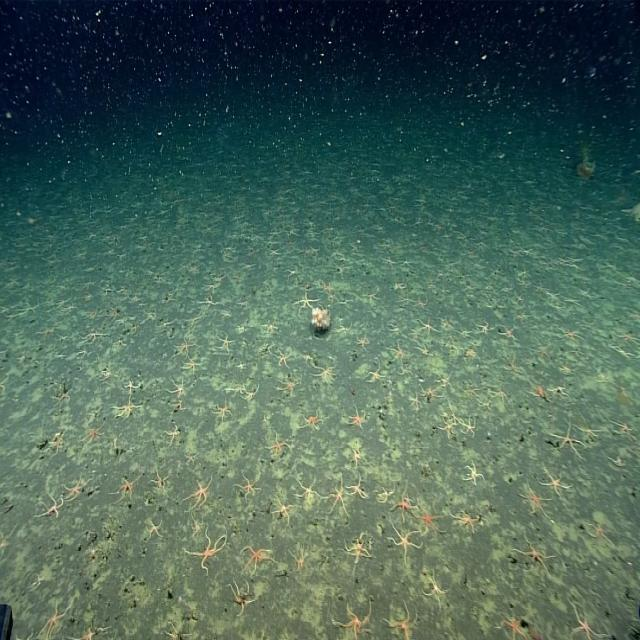brittle-stars: (183, 530, 228, 574), (514, 535, 553, 578), (569, 599, 607, 640), (334, 599, 373, 638), (34, 603, 70, 639), (388, 525, 423, 562), (384, 604, 419, 640), (182, 475, 214, 512), (552, 424, 585, 457), (228, 581, 257, 615), (242, 548, 276, 576), (517, 483, 548, 513), (539, 468, 569, 499), (322, 483, 349, 514), (111, 473, 140, 501), (448, 508, 481, 532), (422, 574, 445, 608), (391, 490, 416, 520), (500, 614, 528, 640), (271, 499, 296, 528), (65, 624, 110, 640), (64, 476, 91, 502), (234, 476, 262, 500), (345, 538, 369, 566), (417, 506, 441, 533), (35, 498, 64, 520), (295, 481, 322, 504), (586, 522, 613, 544), (464, 460, 485, 488), (416, 317, 440, 341), (527, 346, 555, 366), (388, 342, 412, 365), (82, 422, 105, 446), (346, 475, 368, 500), (267, 434, 290, 456), (50, 384, 72, 407), (115, 397, 141, 416), (528, 381, 550, 403), (299, 412, 323, 432), (0, 526, 16, 556), (212, 398, 231, 423), (612, 329, 640, 345), (419, 385, 445, 402), (151, 468, 170, 491), (295, 295, 319, 313), (376, 484, 397, 504), (313, 366, 336, 384), (164, 625, 191, 640), (18, 298, 38, 318), (461, 415, 478, 438), (80, 333, 110, 346), (348, 409, 366, 430), (172, 339, 194, 356), (290, 550, 307, 572), (610, 420, 632, 436), (350, 446, 364, 471), (274, 348, 292, 367), (436, 419, 456, 436), (184, 312, 204, 329), (610, 344, 634, 358), (463, 383, 485, 398), (278, 379, 296, 397), (502, 357, 520, 375), (168, 380, 185, 399), (181, 358, 200, 375), (51, 433, 65, 456), (216, 332, 232, 352), (164, 426, 180, 446), (557, 326, 581, 339), (146, 521, 164, 538), (27, 575, 44, 593), (436, 371, 454, 388), (490, 388, 508, 404), (576, 427, 602, 438), (365, 368, 384, 383), (548, 386, 568, 400), (224, 384, 245, 397), (242, 384, 258, 401), (498, 325, 516, 340), (332, 323, 352, 336), (360, 290, 380, 303), (197, 299, 218, 311), (608, 455, 626, 469), (168, 400, 186, 414), (81, 310, 102, 322), (353, 335, 369, 350), (262, 320, 278, 335), (99, 369, 118, 381), (161, 291, 176, 306), (37, 326, 54, 339), (54, 296, 71, 309), (125, 380, 139, 395), (183, 452, 198, 466), (474, 324, 495, 334), (409, 392, 421, 409), (0, 302, 17, 314), (61, 304, 79, 315), (381, 255, 396, 268), (413, 298, 429, 310), (414, 343, 430, 355), (546, 291, 560, 304), (394, 279, 408, 291), (258, 342, 272, 354), (397, 365, 413, 375), (100, 285, 116, 295), (81, 278, 94, 290), (86, 412, 101, 422), (282, 229, 300, 237), (241, 262, 255, 272), (116, 286, 130, 296), (321, 285, 336, 294), (206, 283, 218, 294), (285, 266, 298, 276), (386, 324, 398, 334), (269, 229, 281, 239), (76, 349, 88, 358), (114, 339, 126, 348), (338, 298, 351, 306), (108, 308, 117, 318), (268, 248, 280, 255), (56, 335, 68, 342), (54, 353, 66, 360), (0, 378, 7, 390), (233, 273, 241, 281)
